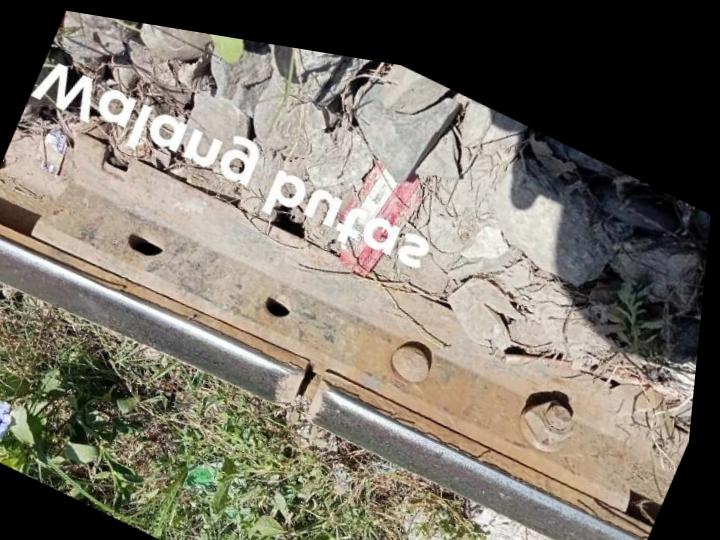person: (246, 311, 383, 447)
